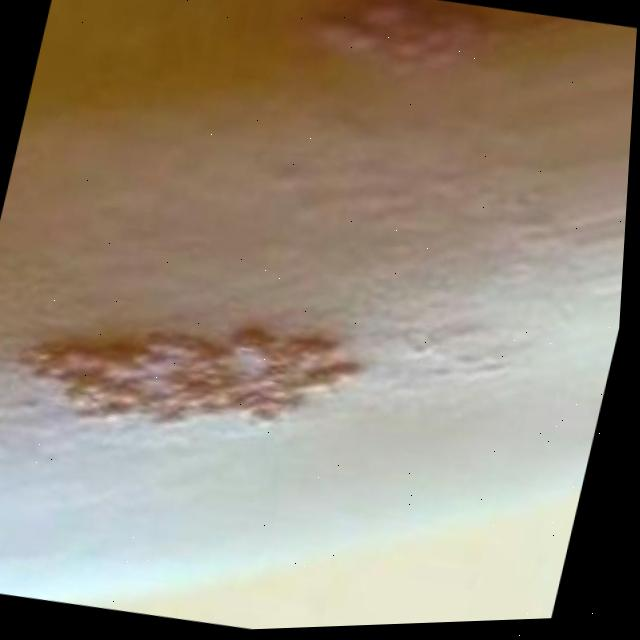Shingles: (16, 285, 370, 472), (313, 0, 489, 93)
